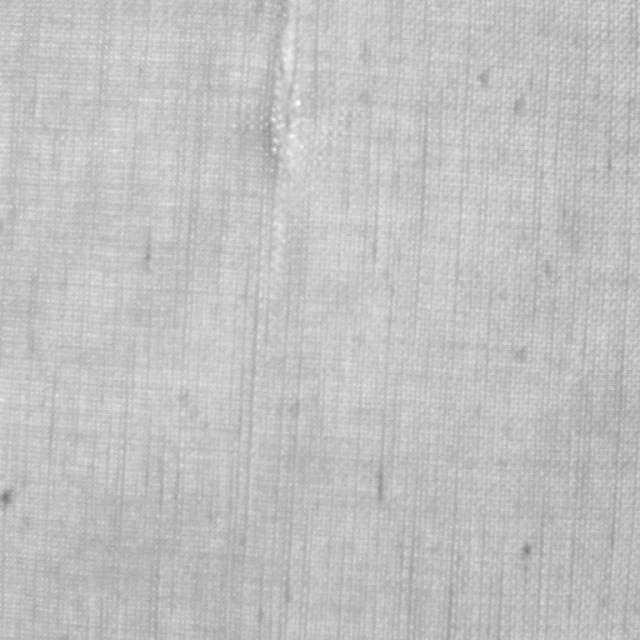thread error: (254, 0, 314, 281)
